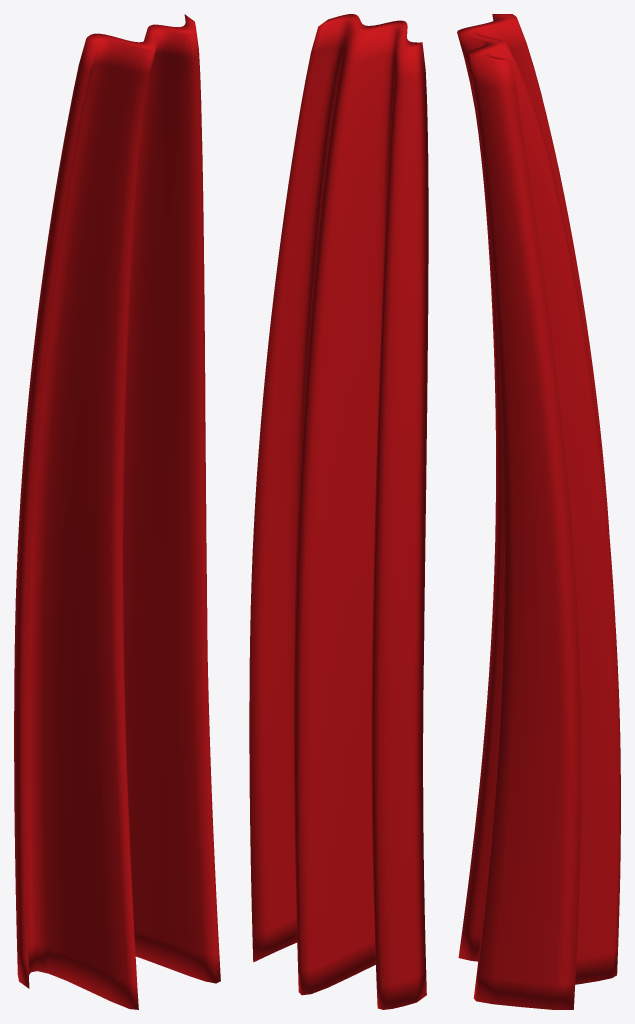
The model's file is TowelHangingSmallRed.glb.
3 views of the same model, side by side, from view 1: azimuth 30°, elevation 25°; view 2: azimuth 150°, elevation 25°; view 3: azimuth 270°, elevation 25° (orthographic). The views are drawn at different scales.
Visible parts, largest first — view 1: HangingSmallTowel; view 2: HangingSmallTowel; view 3: HangingSmallTowel.
Part boxes in pixels (bbox=[...]): HangingSmallTowel: bbox=[14, 14, 220, 1009]; HangingSmallTowel: bbox=[249, 14, 428, 1009]; HangingSmallTowel: bbox=[457, 14, 620, 1009].
Size of the model in its own units: 0.052 by 0.28 by 0.0446.
